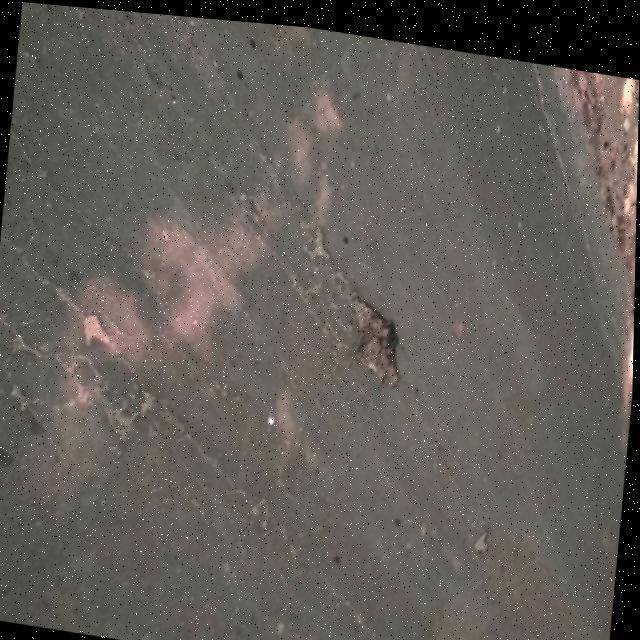pothole: (342, 287, 412, 384)
